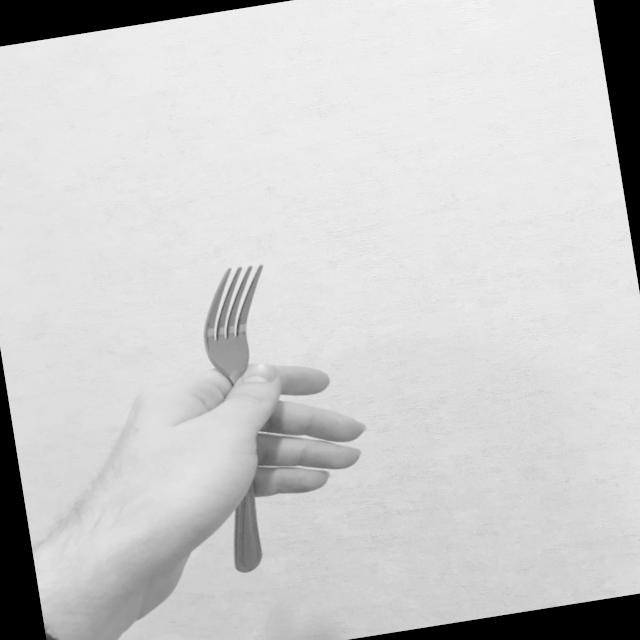fork: (186, 260, 314, 576)
